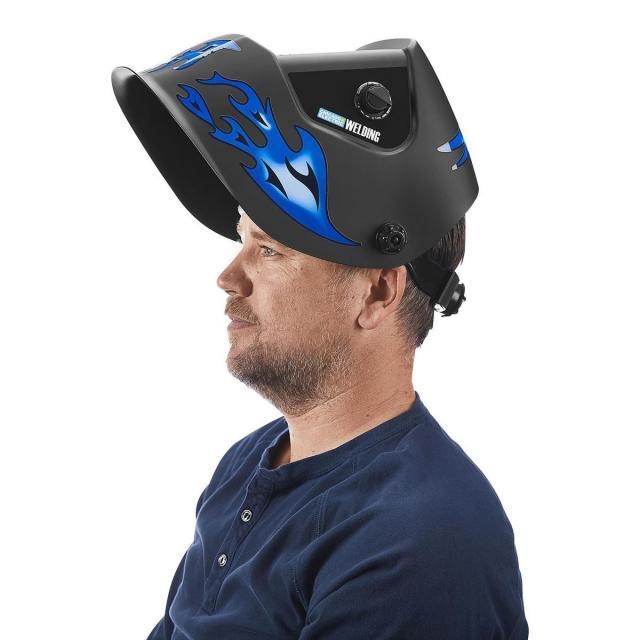helmet_lifted: (109, 31, 482, 461)
without_helmet: (213, 213, 464, 471)
